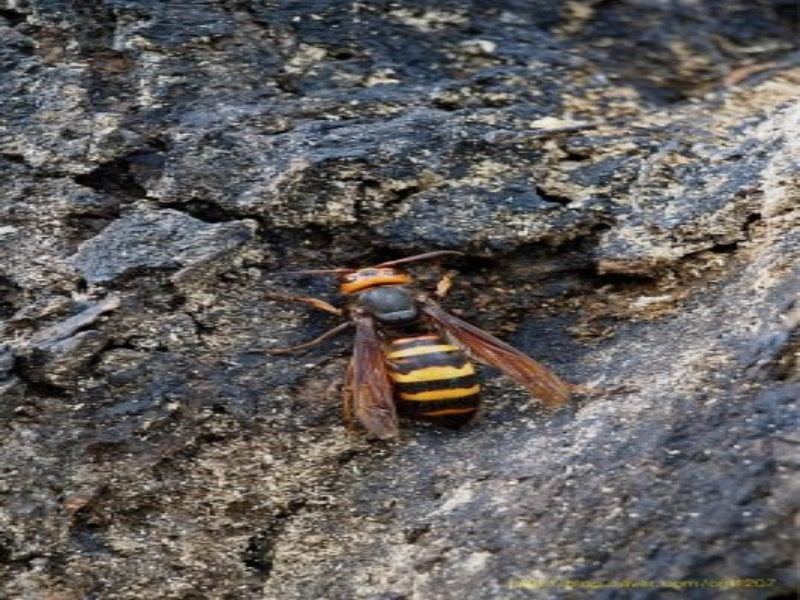asian_giant_hornet: (258, 249, 566, 429)
